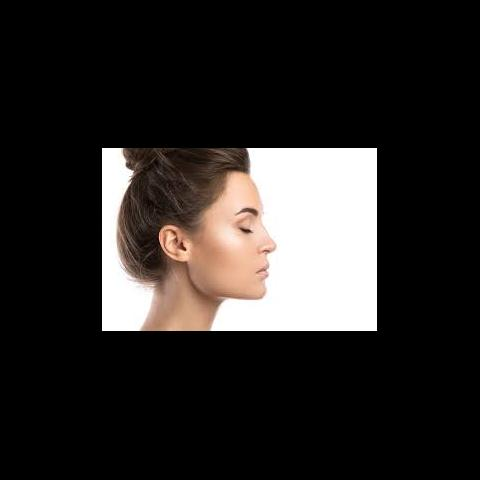closed: (228, 204, 268, 237)
